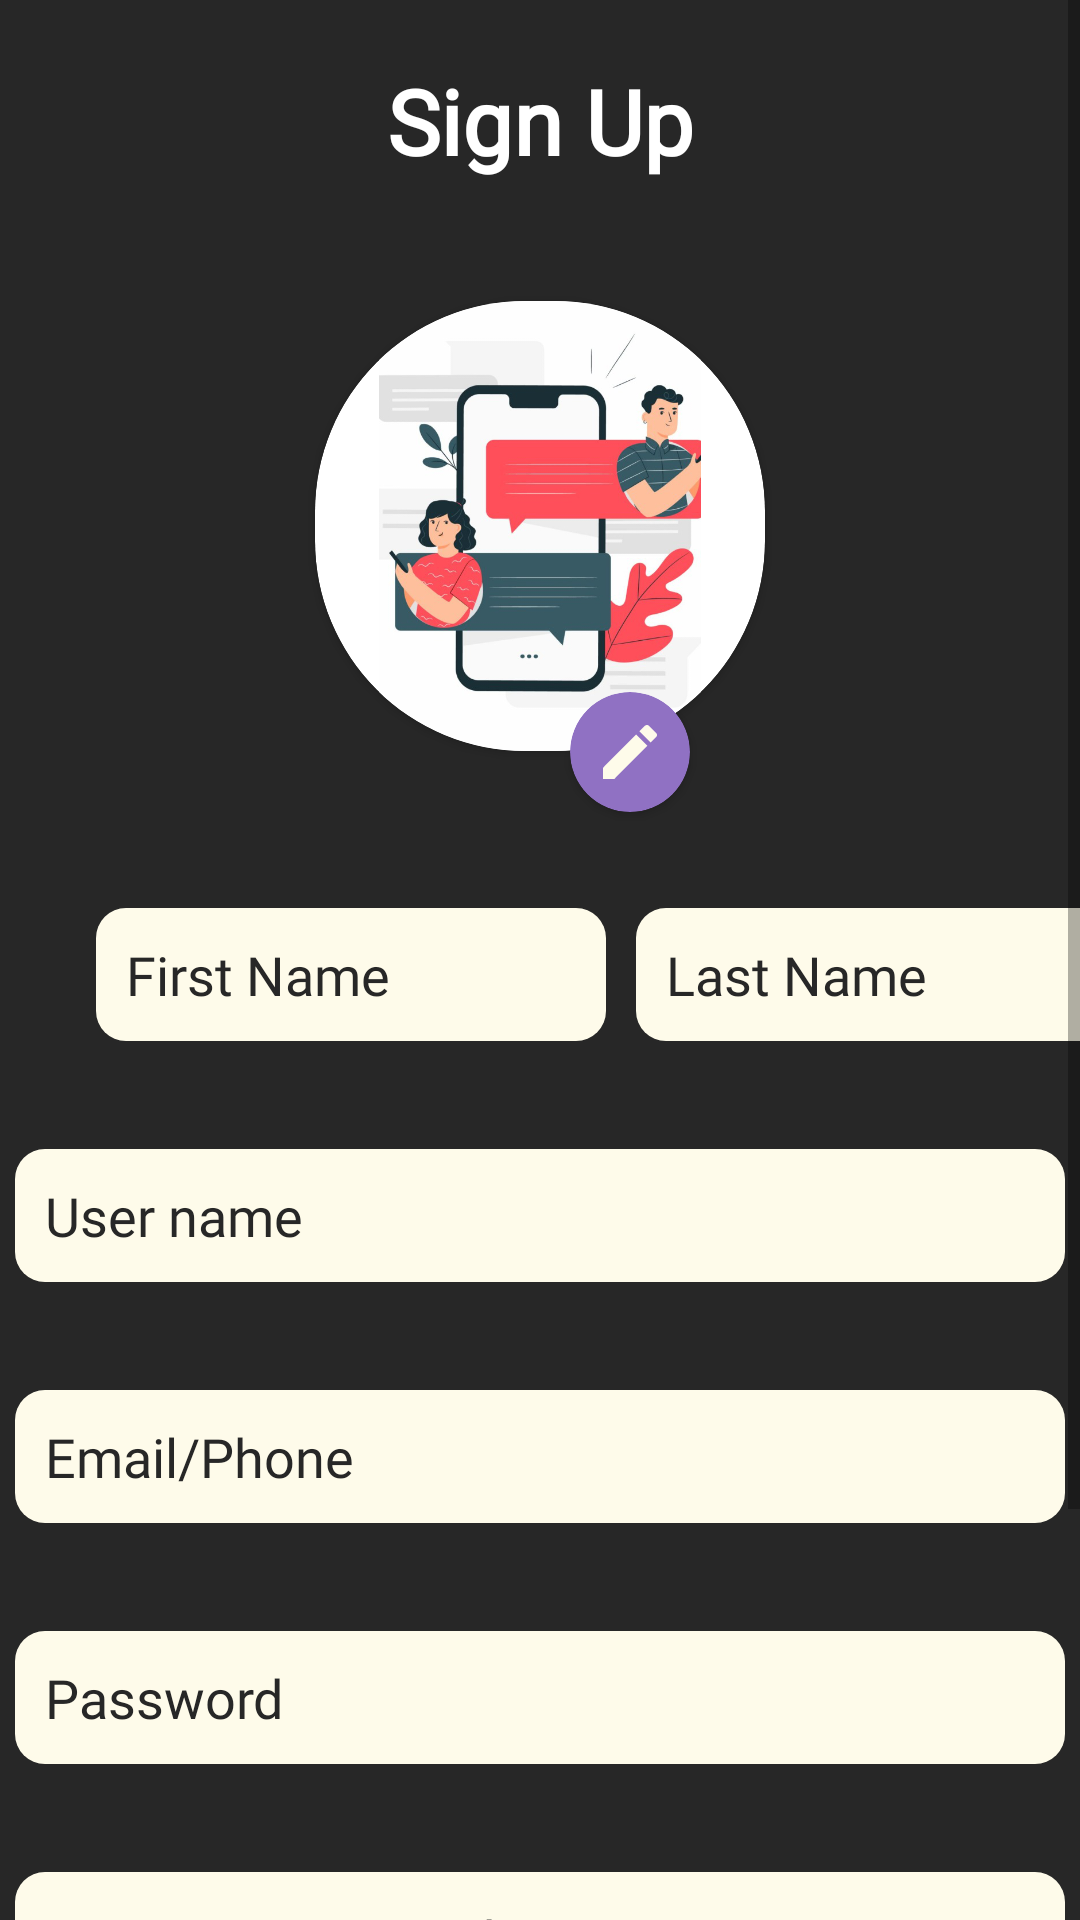

Icons on this 1080×1920 Android screen, each with its box as (x1, y1, x2, y2):
edit: (603, 725, 657, 779)
